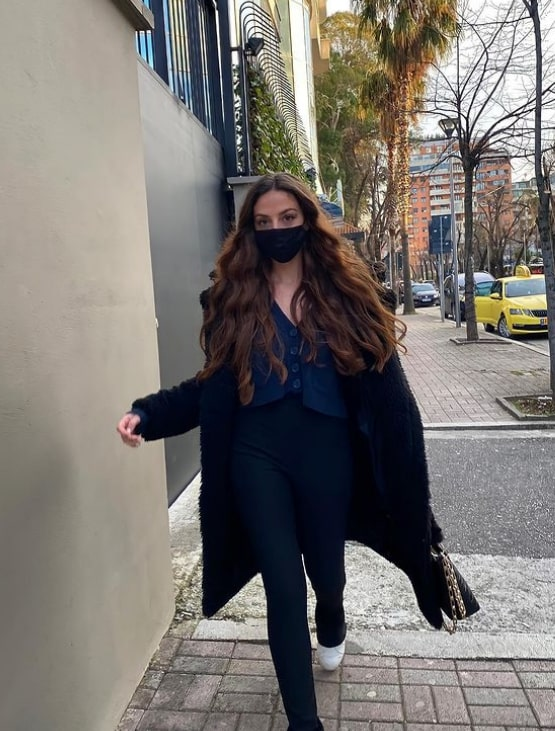with_mask: (238, 185, 323, 271)
